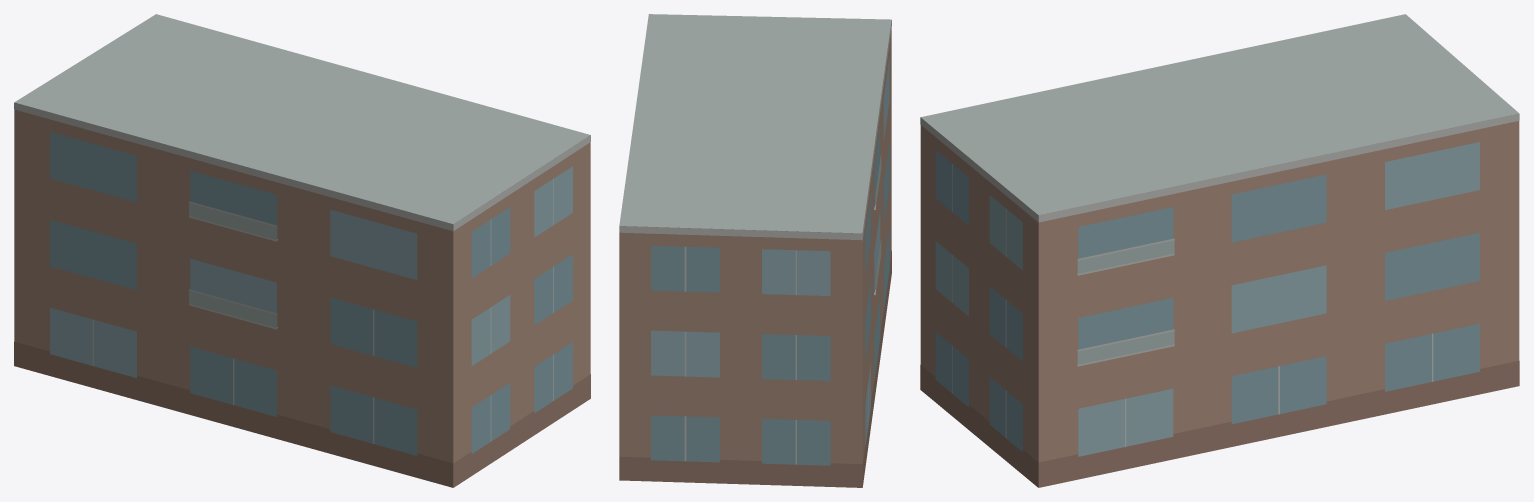
The model's file is survey-upis-32708305.glb.
3 views of the same model, side by side, from view 1: azimuth 30°, elevation 25°; view 2: azimuth 150°, elevation 25°; view 3: azimuth 270°, elevation 25° (orthographic). The views are drawn at different scales.
Parts seen in each view (by area): view 1: survey-upis-32708305.tmp; view 2: survey-upis-32708305.tmp; view 3: survey-upis-32708305.tmp.
Boxes of the visible parts, box(x1,y1,x2,y2) form: survey-upis-32708305.tmp: box(14, 14, 590, 487); survey-upis-32708305.tmp: box(619, 14, 891, 487); survey-upis-32708305.tmp: box(920, 14, 1519, 487).
Bounding box in the file's own units: 14.5 × 9.15 × 18.23.
